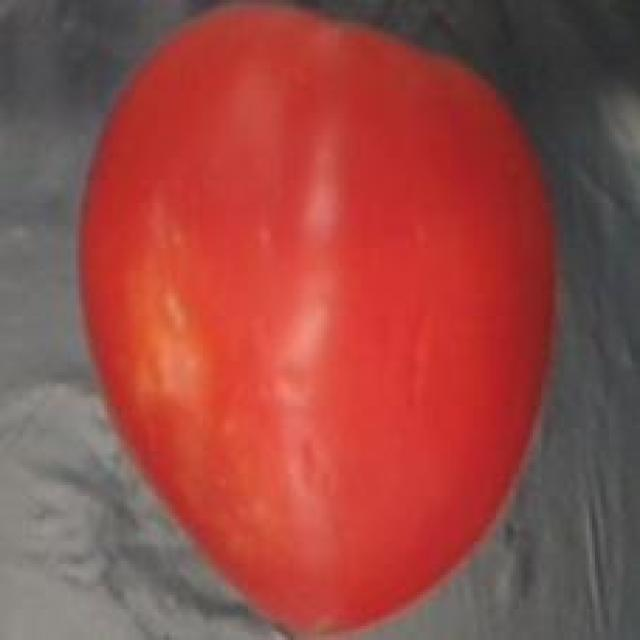ripe tomato: (79, 3, 561, 640)
